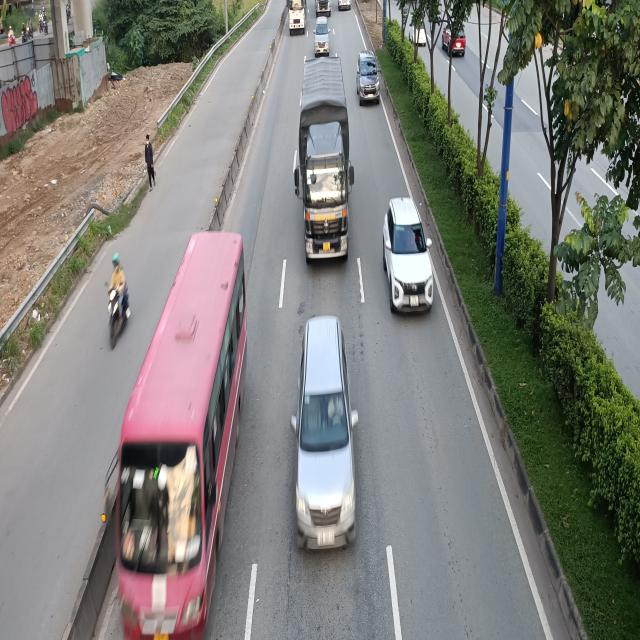car: (290, 316, 357, 549), (383, 194, 433, 314), (356, 51, 381, 105), (313, 18, 331, 58)
coach: (103, 229, 243, 640)
truck: (296, 57, 354, 262), (286, 0, 306, 34)
